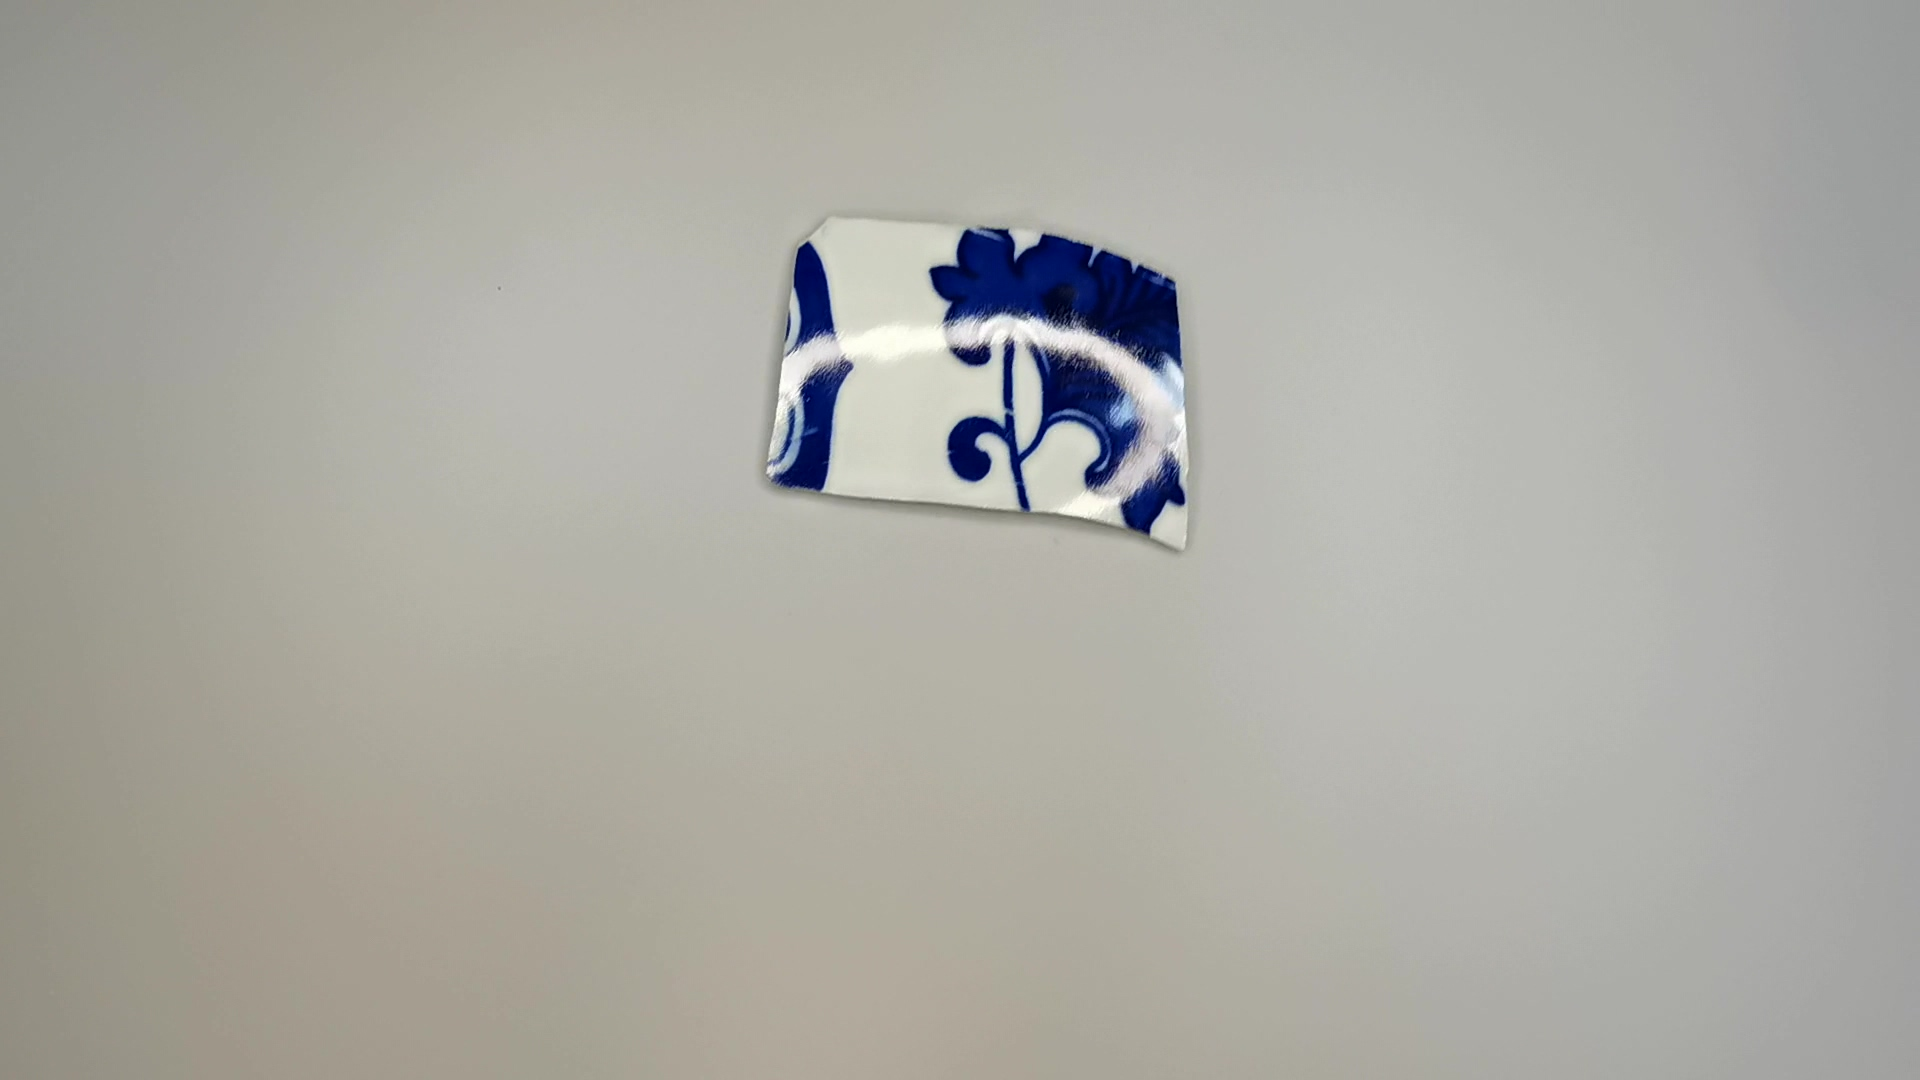ceramic: (760, 206, 1204, 558)
